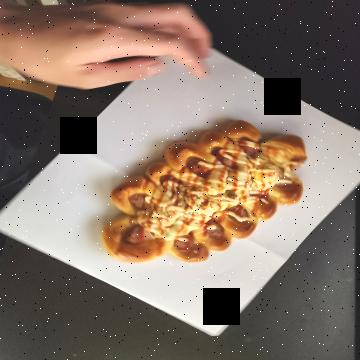pizza_bread: (118, 66, 260, 270)
